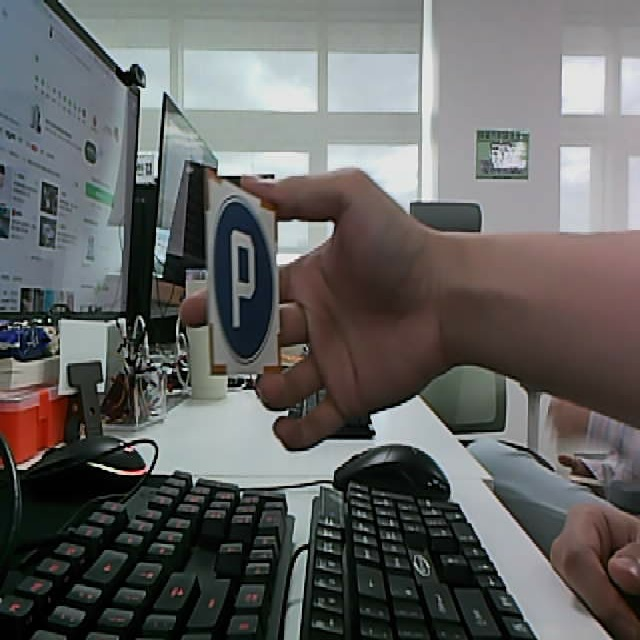parking: (202, 169, 281, 373)
